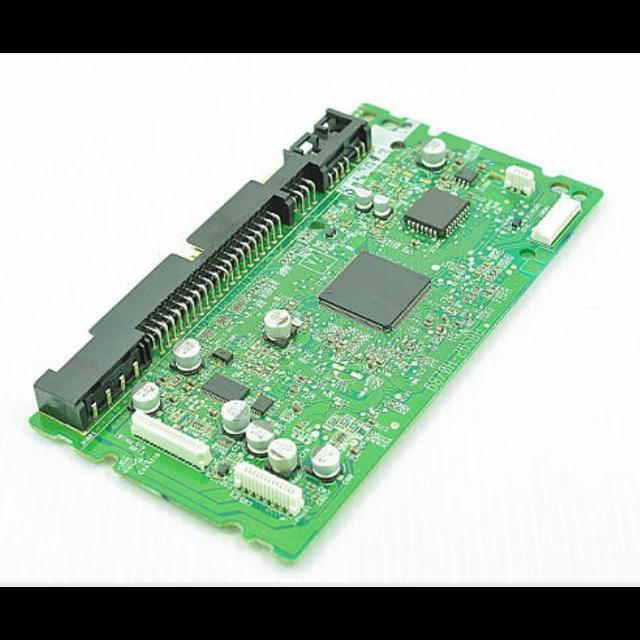PCB: (28, 104, 606, 567)
